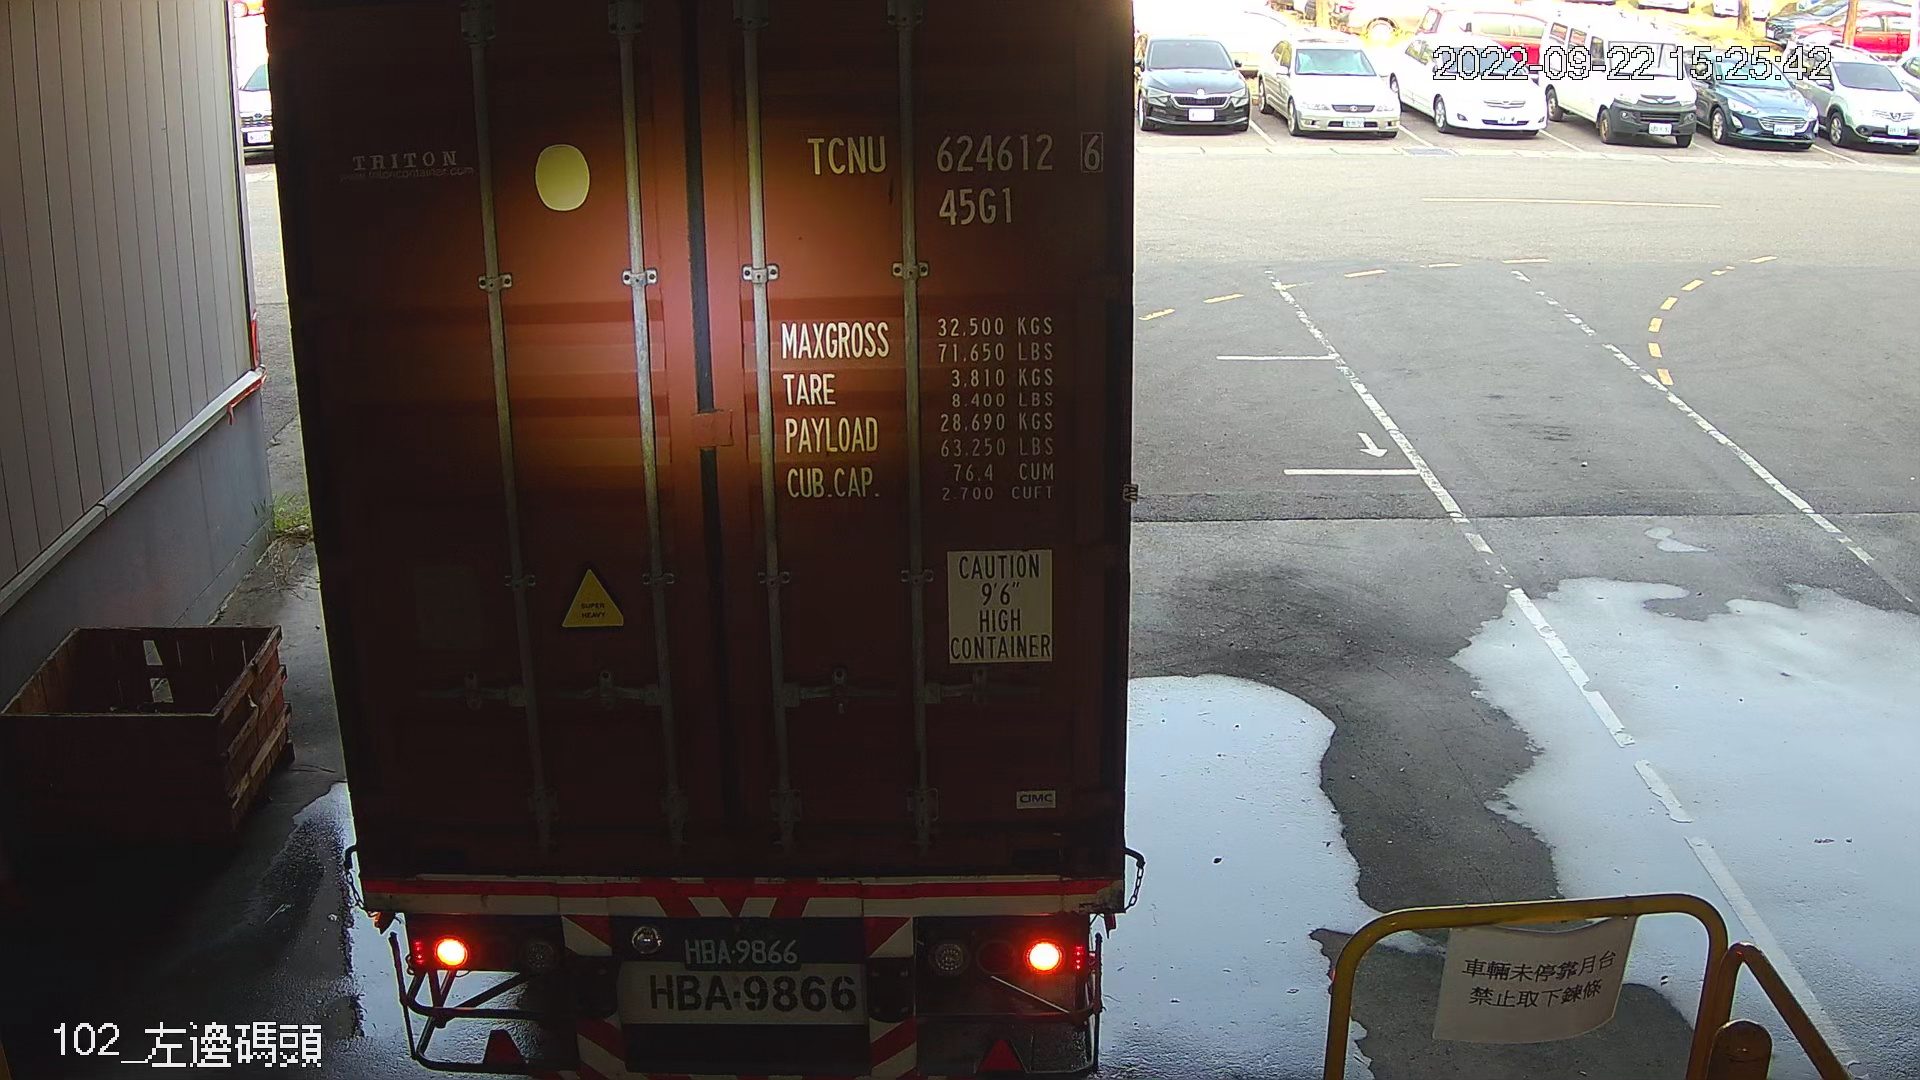container: (791, 119, 1112, 237)
